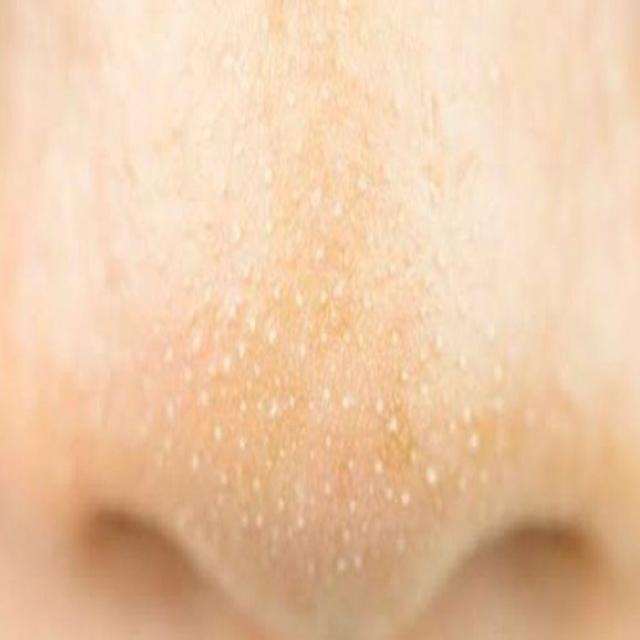whitehead: (133, 134, 571, 640)
